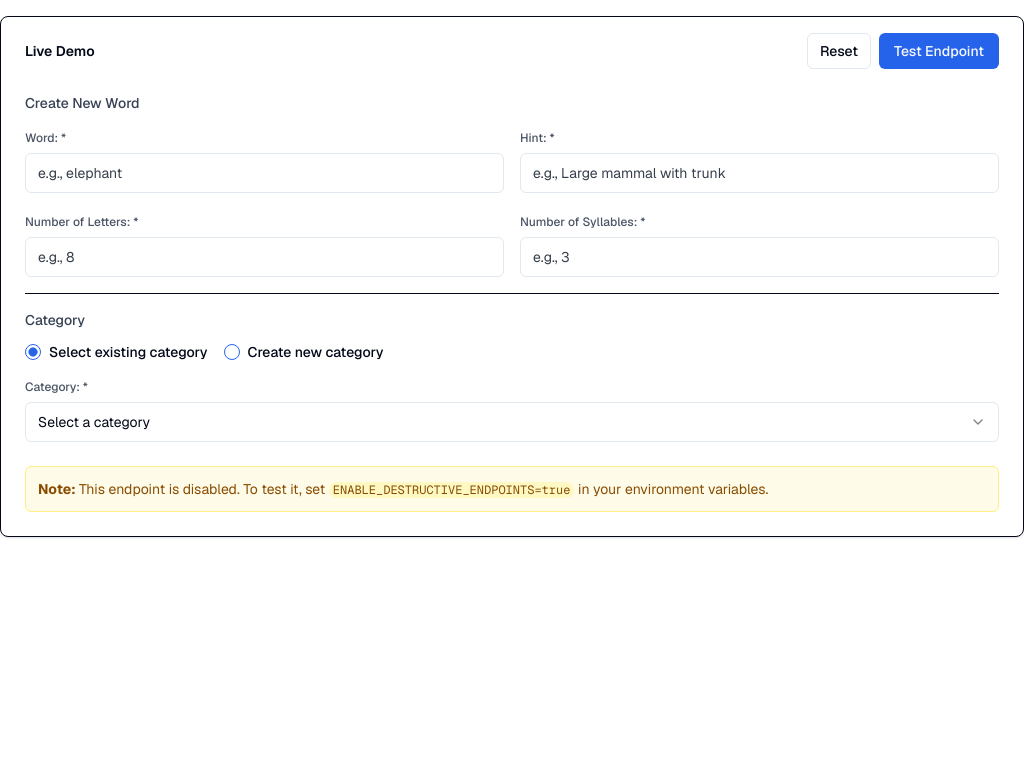
Test: Word CRUD Integration Flow › should handle word creation error workflow
Note: Fill form with existing word and submit
In the field labelled "Word: *": [264, 173] box [25,153,504,193], type "apple"
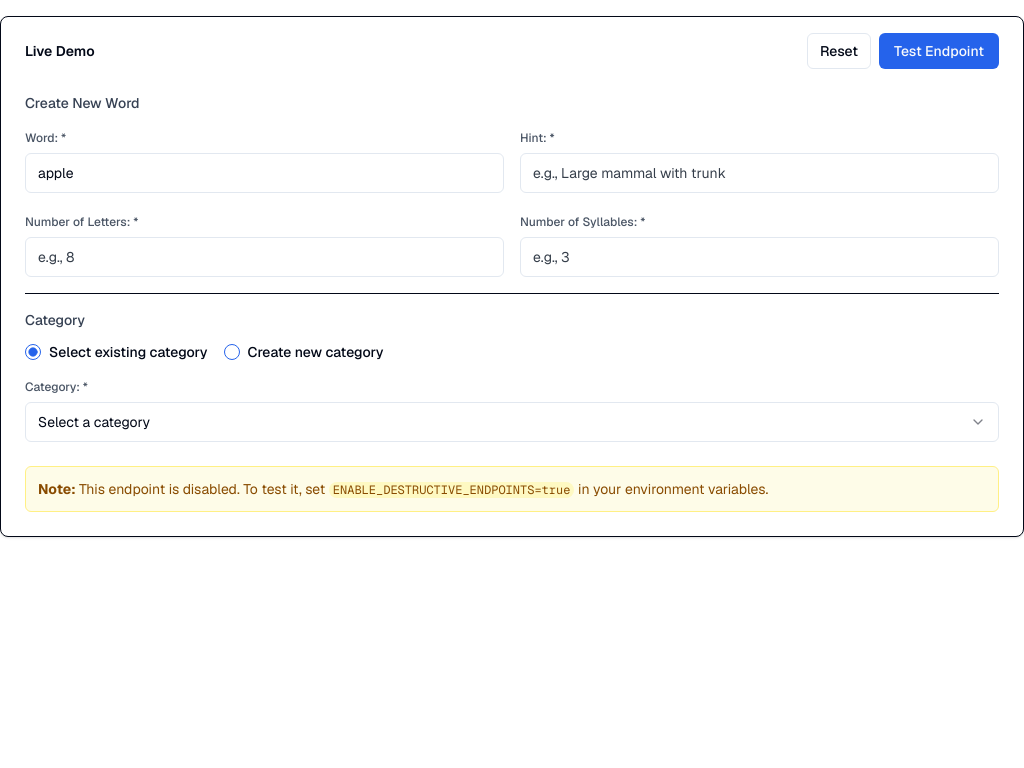
Click the button "Test Endpoint": [939, 51] box [879,33,999,69]
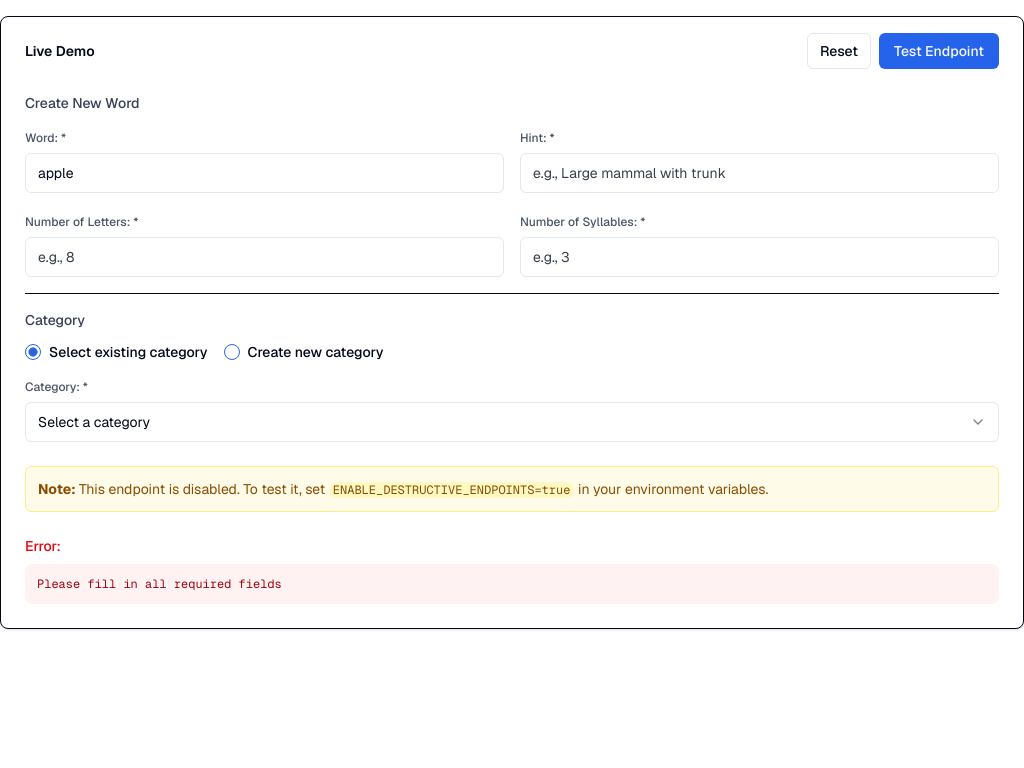
Result: the heading "Error:" is shown at [25,537,61,555]
